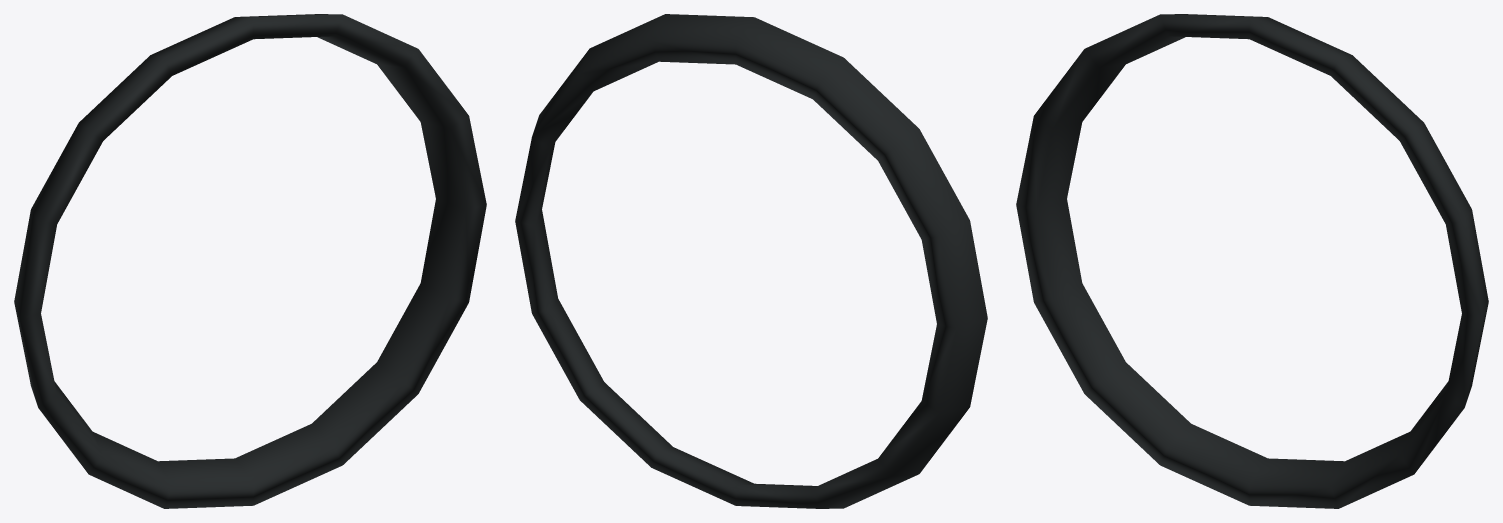
Rendered from Sound_ammo.fbx.
The picture shows the model from 3 angles, left to right: view 1: azimuth 30°, elevation 25°; view 2: azimuth 150°, elevation 25°; view 3: azimuth 330°, elevation 25°; orthographic projection.
Parts seen in each view (by area): view 1: Sound_ammo; view 2: Sound_ammo; view 3: Sound_ammo.
Part boxes in pixels (x1,y1,x2,y2): Sound_ammo: (14, 14, 486, 508); Sound_ammo: (515, 14, 987, 508); Sound_ammo: (1016, 14, 1488, 508).
Bounding box in the file's own units: 54.27 × 3.79 × 54.27.
